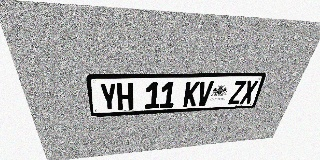1: (145, 82, 161, 109), (160, 82, 176, 108)
H: (117, 83, 133, 110)
K: (183, 81, 200, 107)
V: (196, 81, 214, 106)
X: (240, 80, 259, 104)
Y: (99, 83, 118, 111)
Z: (228, 80, 247, 104)
